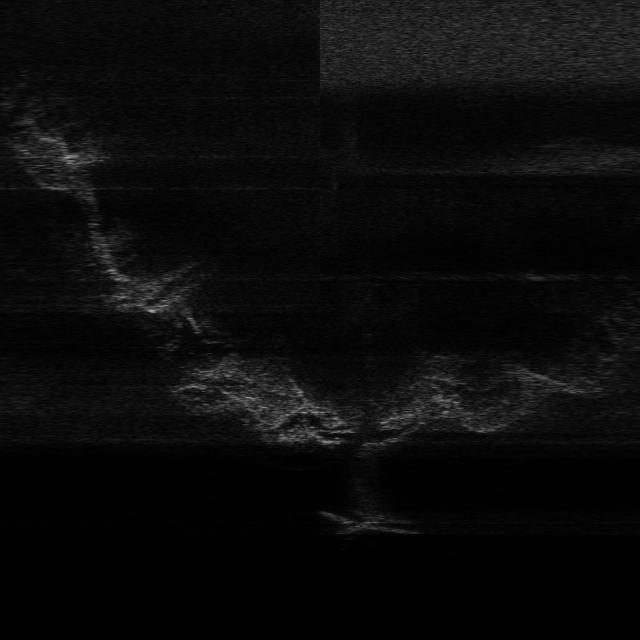plane: (316, 507, 426, 536)
